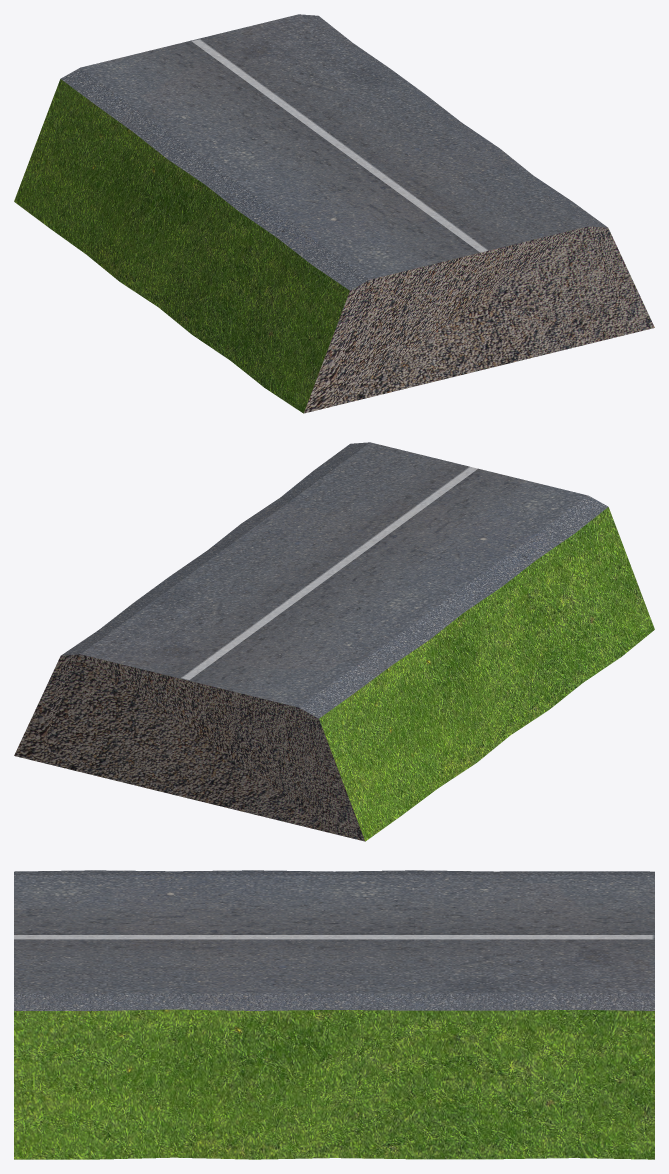
File: rural_road.obj
The picture shows the model from 3 angles, top to bottom: view 1: azimuth 30°, elevation 25°; view 2: azimuth 150°, elevation 25°; view 3: azimuth 270°, elevation 25°; orthographic projection. The views are drawn at different scales.
Parts seen in each view (by area): view 1: rural_road; view 2: rural_road; view 3: rural_road.
Boxes of the visible parts, <box> form: rural_road: <box>14,14,654,413</box>; rural_road: <box>14,442,654,841</box>; rural_road: <box>14,870,654,1159</box>.
Bounding box in the file's own units: 9.99 × 3.18 × 14.15.
1 material, 1 textured.
